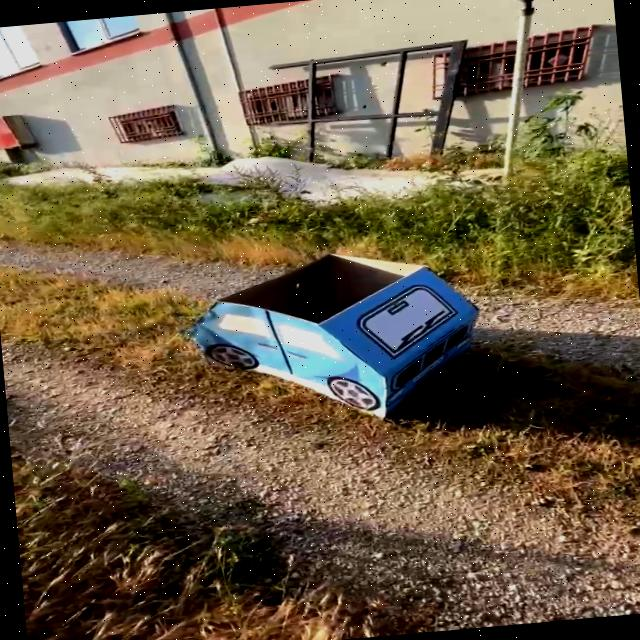blue_car: (136, 221, 530, 470)
